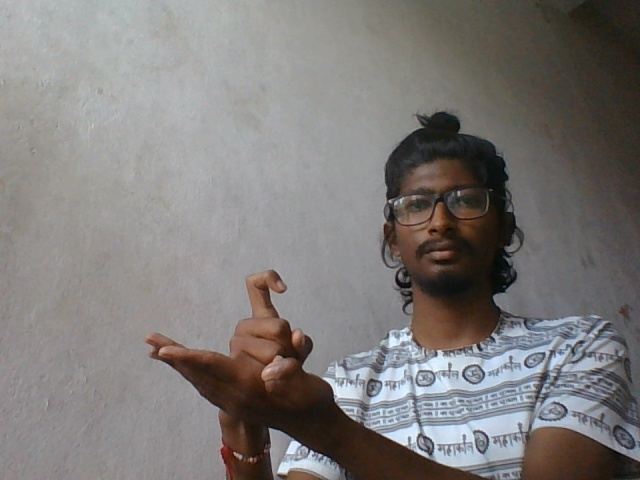No: (137, 264, 348, 437)
